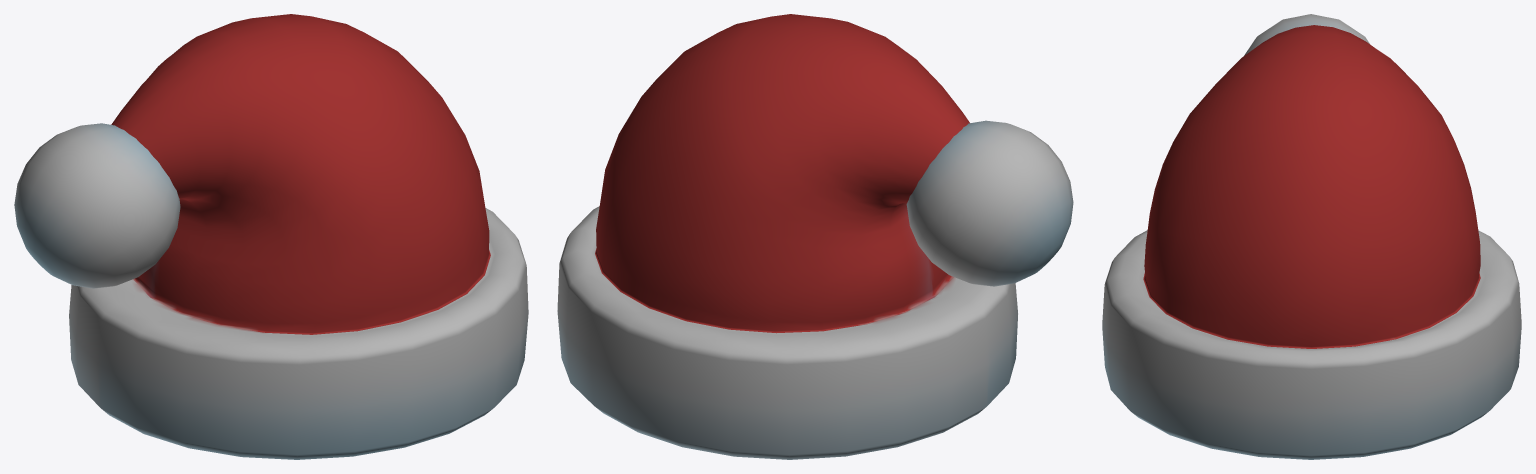
File: hat.fbx
3 views of the same model, side by side, from view 1: azimuth 30°, elevation 25°; view 2: azimuth 150°, elevation 25°; view 3: azimuth 270°, elevation 25° (orthographic). The views are drawn at different scales.
Parts seen in each view (by area): view 1: hat; view 2: hat; view 3: hat.
Boxes of the visible parts, x1,y1,x2,y2 form: hat: (14, 14, 528, 459); hat: (557, 14, 1073, 459); hat: (1102, 14, 1521, 459).
Size of the model in its own units: 21.19 by 14.88 by 17.71.
